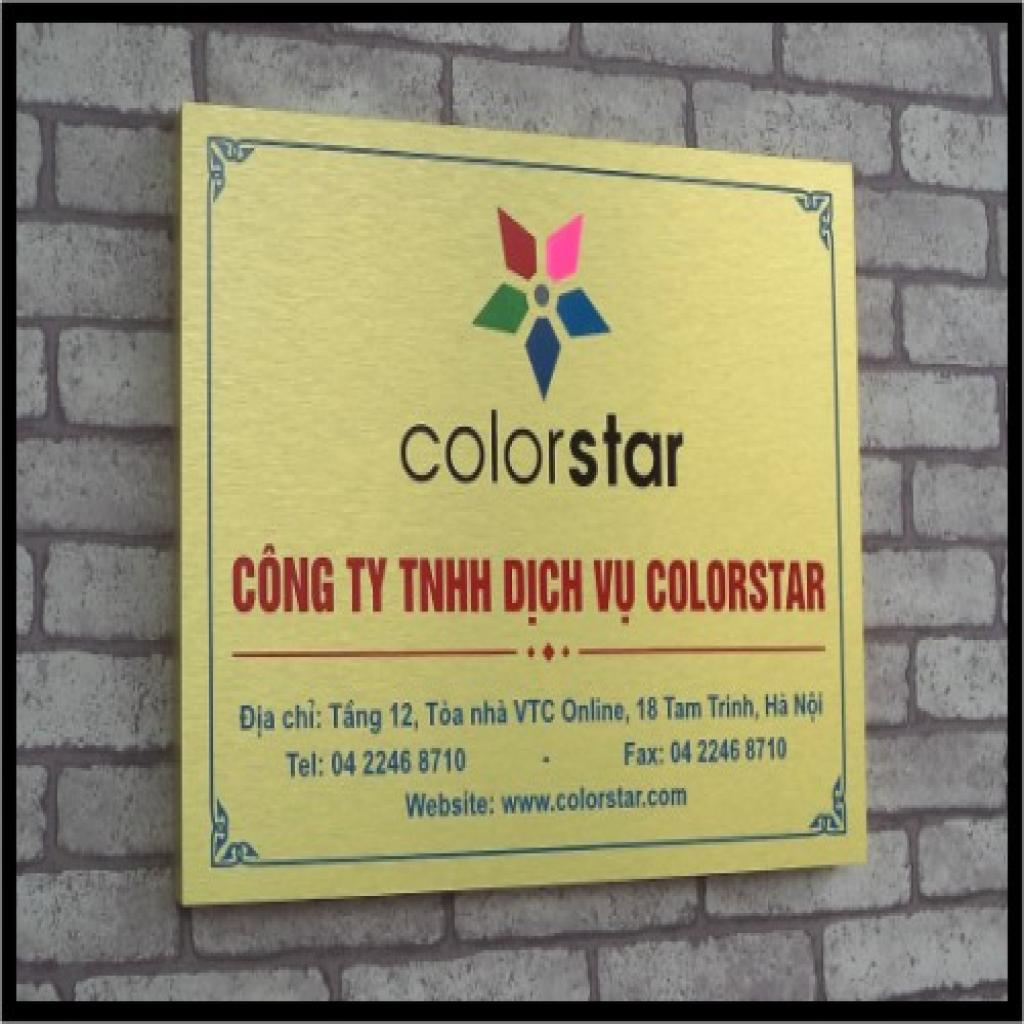text: (398, 407, 692, 495), (645, 555, 830, 620), (227, 540, 338, 618), (395, 555, 496, 617), (500, 558, 586, 628), (330, 742, 471, 782), (670, 734, 790, 771), (399, 785, 498, 825), (590, 558, 641, 628), (344, 552, 391, 617), (559, 694, 633, 731), (326, 697, 385, 742), (704, 688, 764, 726), (280, 697, 326, 737), (280, 745, 328, 782), (616, 737, 668, 771), (236, 700, 278, 742), (660, 688, 706, 726), (510, 694, 559, 728), (790, 686, 828, 728), (422, 697, 467, 731), (469, 697, 512, 731), (387, 697, 422, 737), (760, 688, 792, 722), (633, 691, 661, 728), (539, 754, 553, 768)
